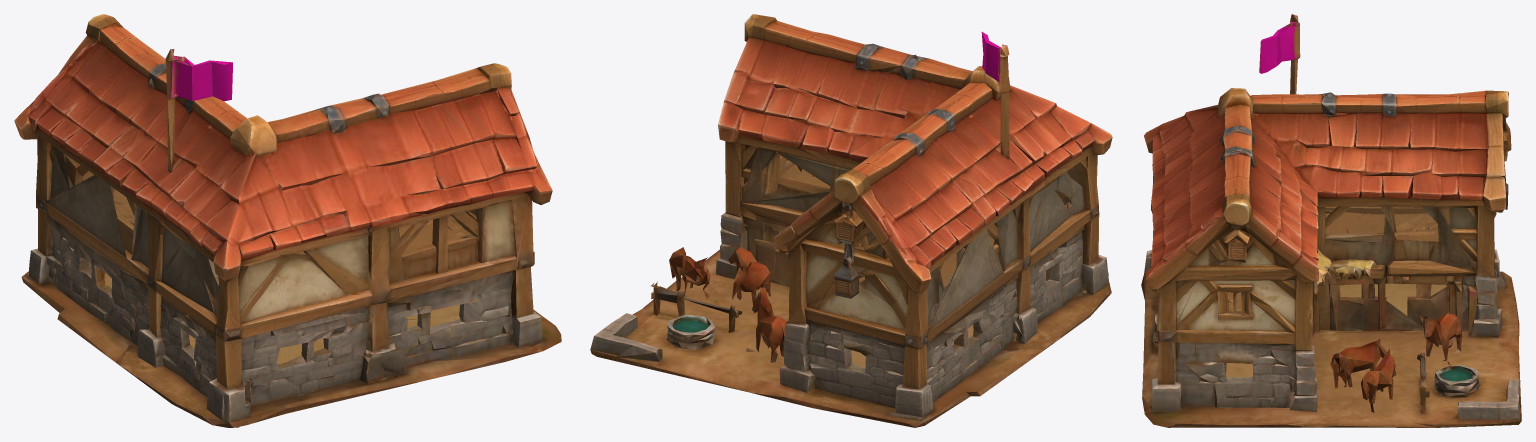
The model's file is stable2.glb.
3 views of the same model, side by side, from view 1: azimuth 30°, elevation 25°; view 2: azimuth 150°, elevation 25°; view 3: azimuth 270°, elevation 25° (orthographic). The views are drawn at different scales.
Visible parts, largest first — view 1: Mesh_0; view 2: Mesh_0; view 3: Mesh_0.
Part boxes in pixels (x1,y1,x2,y2): Mesh_0: [14, 14, 561, 427]; Mesh_0: [590, 14, 1112, 427]; Mesh_0: [1141, 14, 1521, 427].
Size of the model in its own units: 1.88 by 1.53 by 1.9.
Materials: 1 (1 with a texture image).
